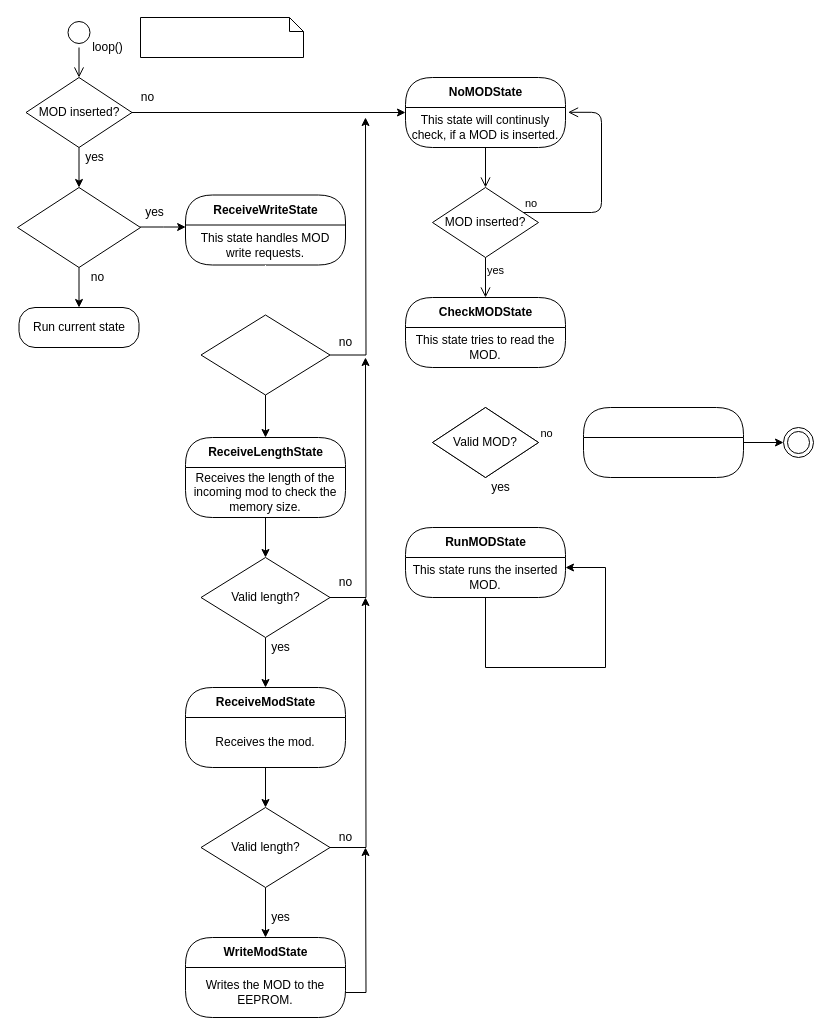
The diagram is 831 pixels wide and 1035 high, and some of its shapes have lost their labels. Each missing label, with the centre of its shape:
"Incoming write request?" belongs at [265,354].
"NoValidMODState" belongs at [663,442].
"Serial.available()" belongs at [78,227].
"The loop starts over after each state run!" belongs at [222,37].
